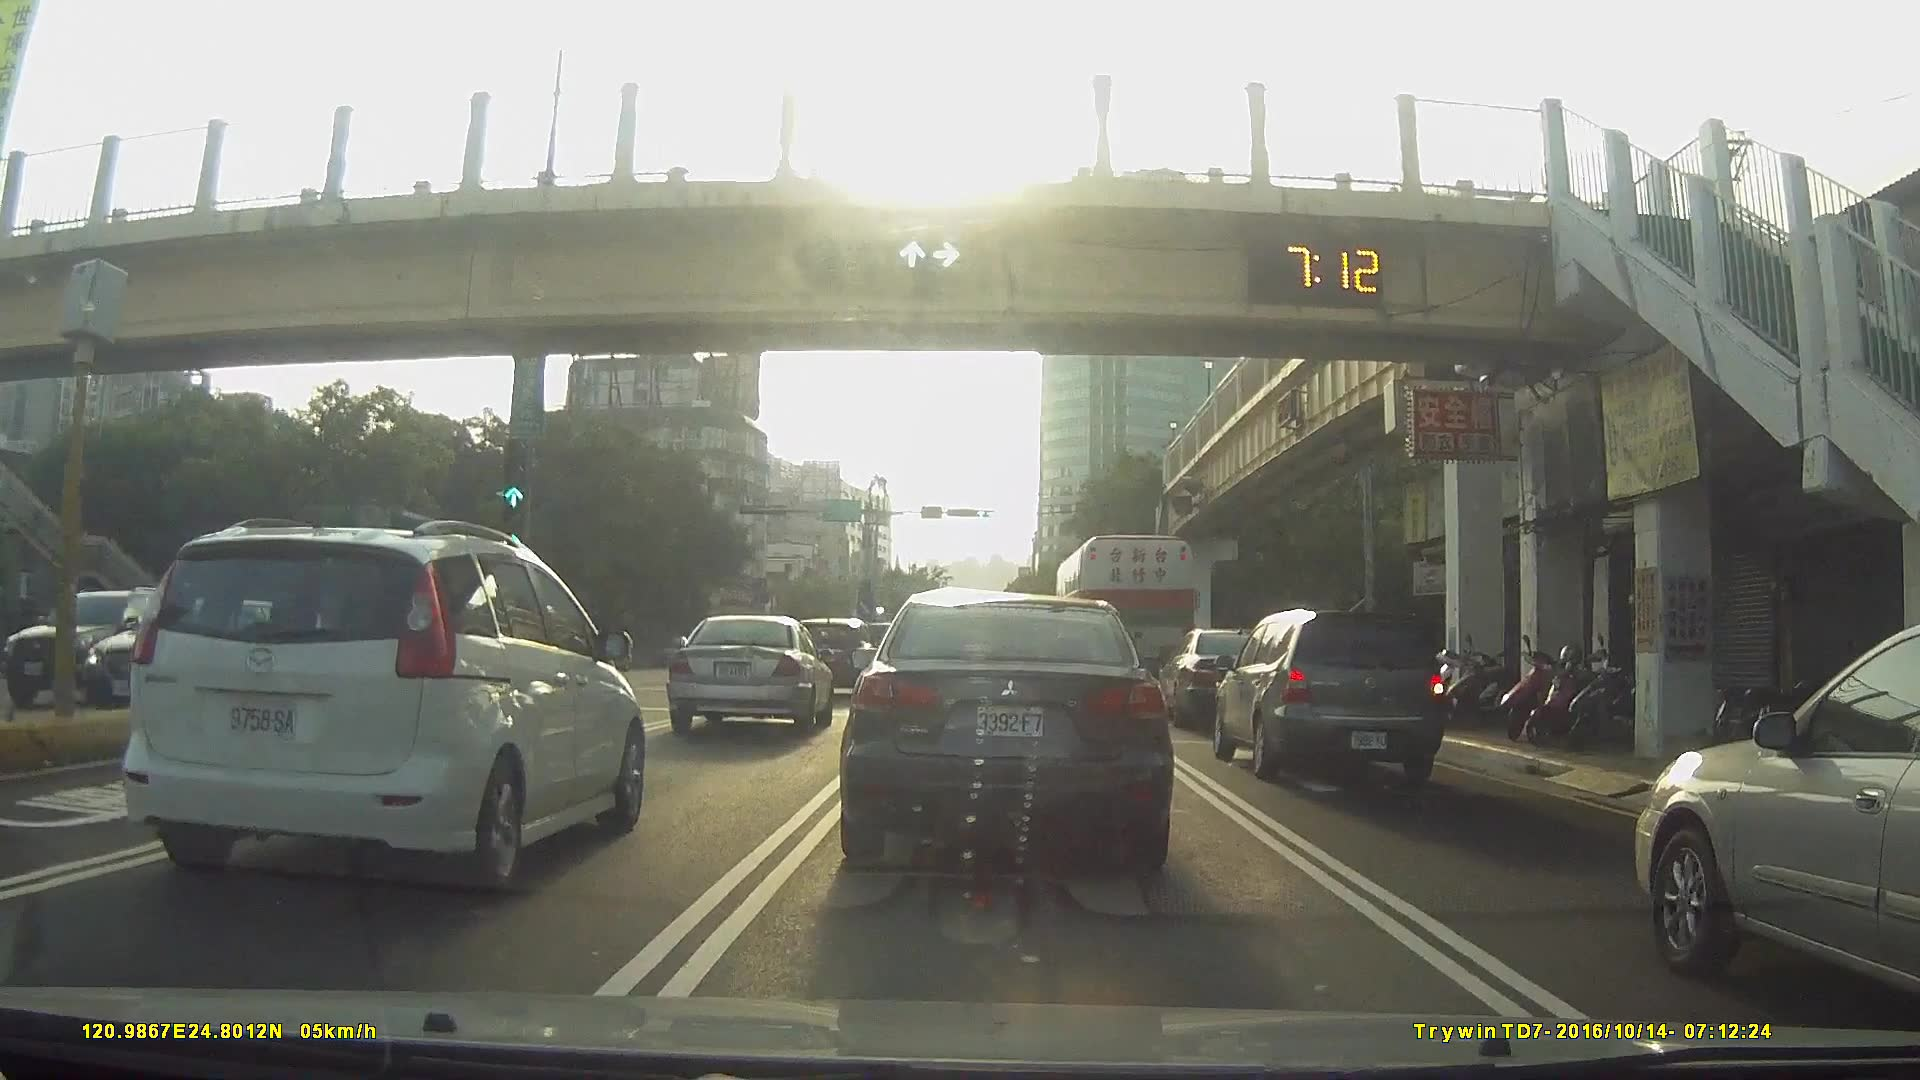vehicle: (112, 516, 649, 895), (1633, 624, 1920, 1005), (843, 585, 1172, 884), (1208, 605, 1444, 790), (1056, 535, 1209, 695), (666, 613, 832, 735), (1156, 626, 1283, 731), (793, 615, 877, 692), (645, 632, 696, 669)
